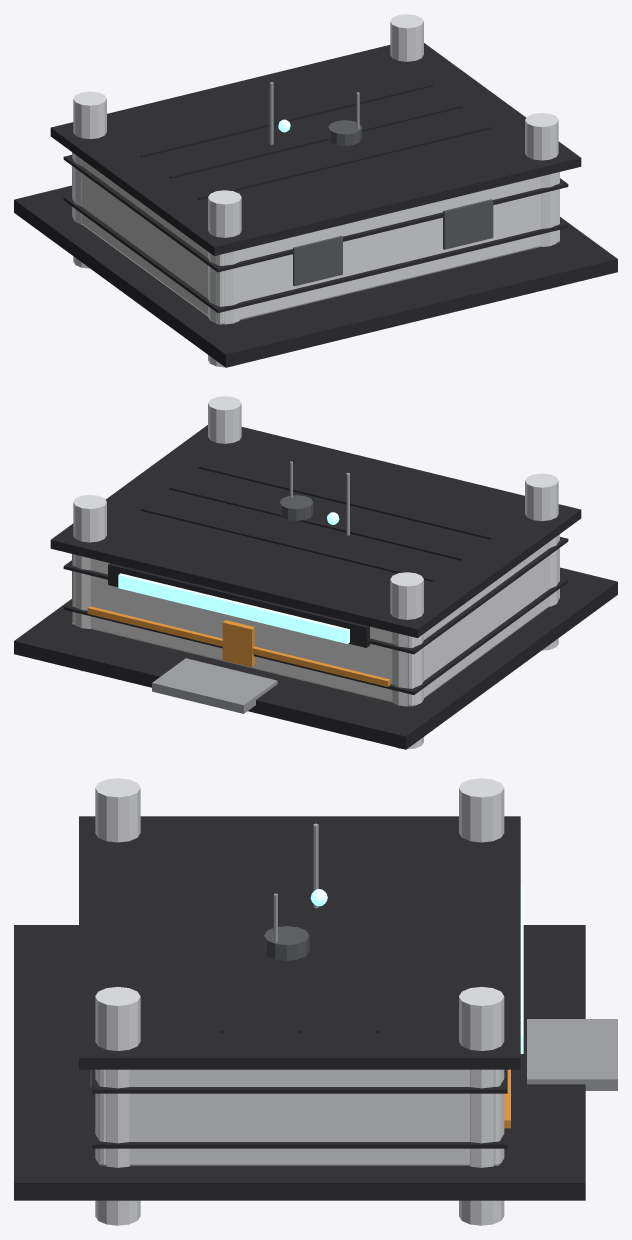
Rendered from SM_Hero_OPS.glb.
The picture shows the model from 3 angles, top to bottom: view 1: azimuth 30°, elevation 25°; view 2: azimuth 150°, elevation 25°; view 3: azimuth 270°, elevation 25°; orthographic projection. The views are drawn at different scales.
Parts seen in each view (by area): view 1: SM_Hero_OPS; view 2: SM_Hero_OPS; view 3: SM_Hero_OPS.
Part boxes in pixels (x1=…): SM_Hero_OPS: x1=14, y1=14, x2=617, y2=367; SM_Hero_OPS: x1=14, y1=396, x2=617, y2=749; SM_Hero_OPS: x1=14, y1=778, x2=617, y2=1225.
Bounding box in the file's own units: 5.64 × 2.67 × 5.58.
